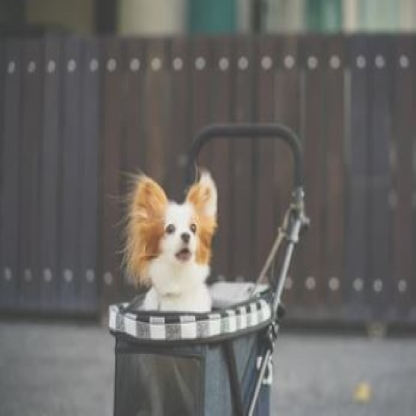chihuahua: (116, 166, 220, 307)
